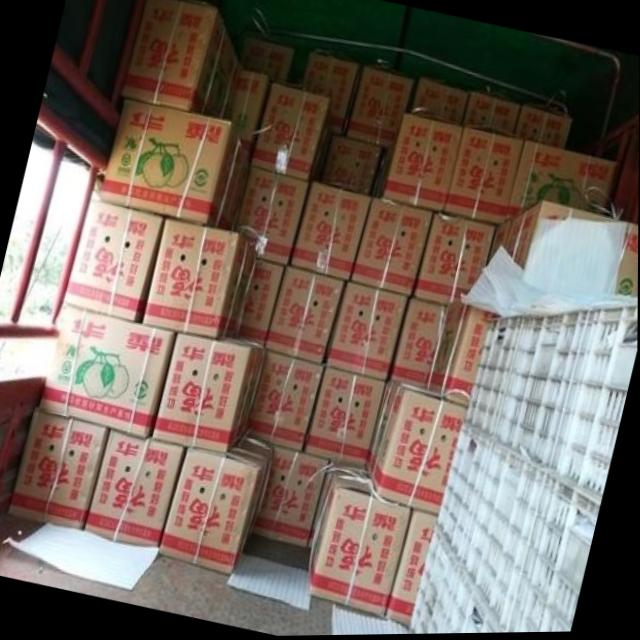box: (97, 97, 250, 228), (38, 305, 176, 440), (157, 432, 274, 575), (307, 464, 411, 619), (122, 0, 242, 120), (142, 219, 257, 341), (366, 381, 467, 515), (152, 334, 265, 453), (7, 409, 111, 530), (64, 199, 166, 321), (506, 203, 639, 296), (83, 431, 185, 548), (506, 140, 616, 220), (375, 113, 462, 213), (303, 366, 386, 468), (325, 282, 408, 381), (443, 125, 523, 226), (351, 198, 432, 297), (411, 213, 496, 307), (251, 83, 331, 182), (264, 267, 344, 365), (425, 301, 500, 405), (292, 183, 372, 280), (252, 448, 329, 548), (249, 352, 324, 452), (235, 168, 307, 266), (386, 510, 438, 628), (347, 67, 414, 147), (391, 299, 447, 388), (302, 54, 361, 135), (227, 71, 272, 162), (239, 256, 284, 345), (319, 136, 382, 195), (238, 38, 300, 89), (411, 78, 468, 126), (465, 91, 521, 135), (515, 106, 571, 150), (489, 223, 510, 263)
